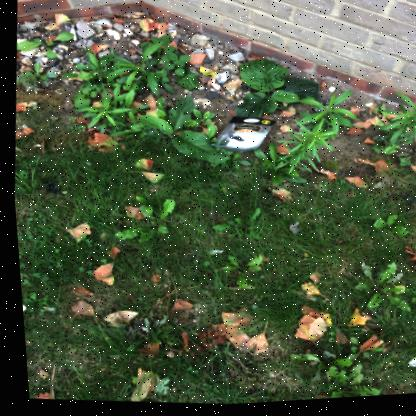Plastic: (209, 119, 273, 155), (209, 120, 273, 148), (286, 225, 297, 237)
Waste: (402, 359, 416, 373)
